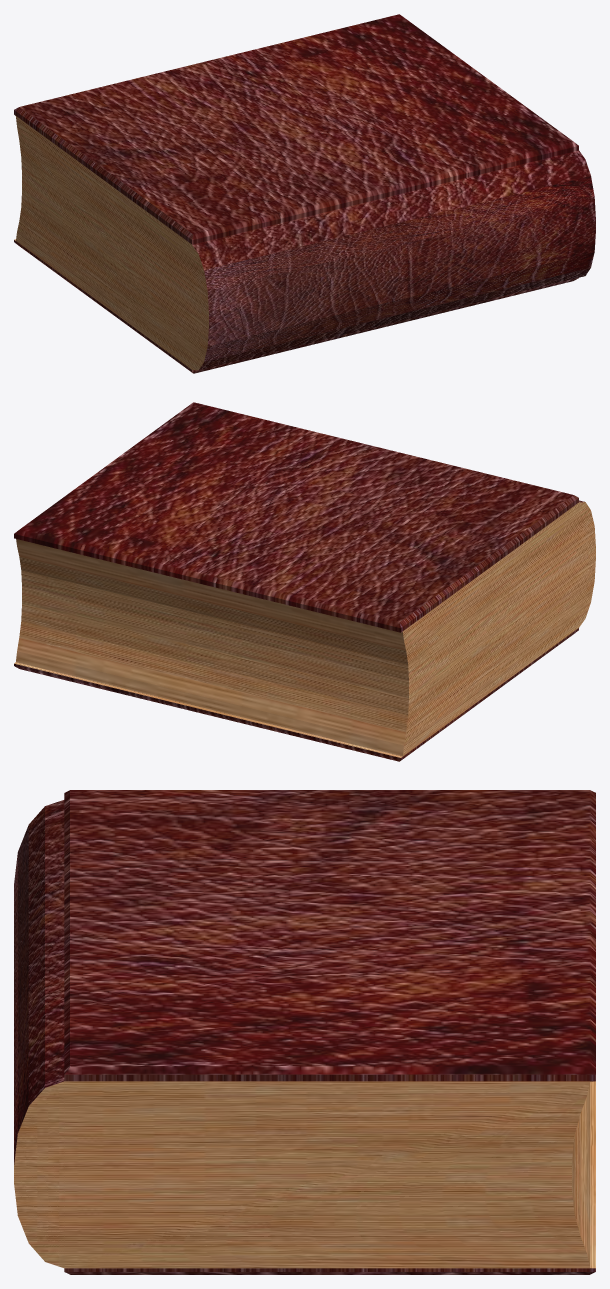
Rendered from magicbook.fbx.
3 renders of one model, top to bottom at view 1: azimuth 30°, elevation 25°; view 2: azimuth 150°, elevation 25°; view 3: azimuth 270°, elevation 25°, orthographic. The views are drawn at different scales.
Parts seen in each view (by area): view 1: Book; view 2: Book; view 3: Book.
Part boxes in pixels (bbox=[...]): Book: bbox=[14, 14, 595, 373]; Book: bbox=[14, 402, 595, 761]; Book: bbox=[14, 790, 595, 1274].
Bounding box in the file's own units: 200 × 68.8 × 175.
